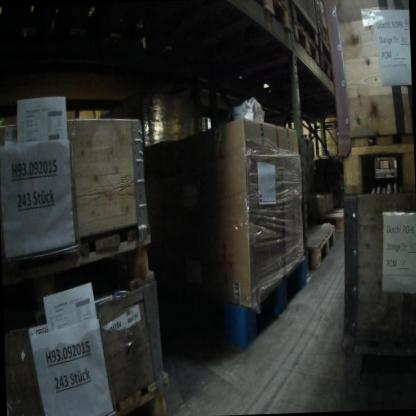pallet: (3, 221, 161, 338), (173, 259, 304, 357), (338, 141, 415, 197), (108, 363, 178, 416), (298, 220, 339, 270), (242, 0, 289, 39), (293, 27, 320, 77), (319, 46, 342, 101), (325, 203, 354, 239), (370, 152, 401, 178), (311, 116, 339, 134), (298, 130, 313, 143)
stillage: (314, 0, 340, 62), (285, 0, 318, 38)
